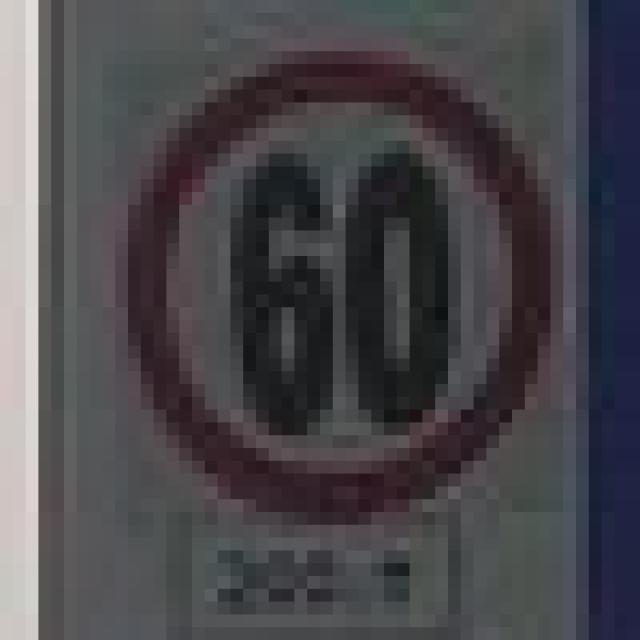speed_limit_40: (102, 38, 538, 500)
